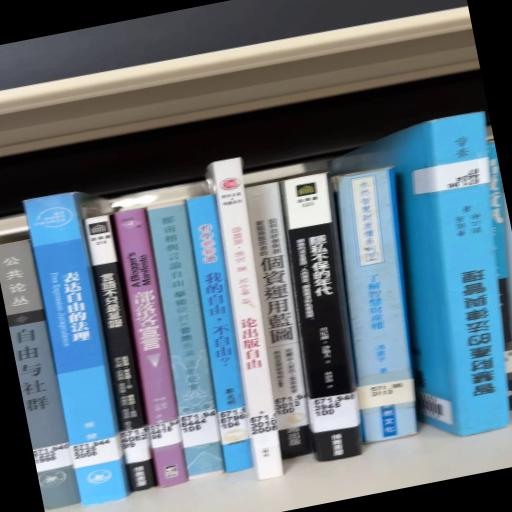reverse: (331, 113, 510, 437)
